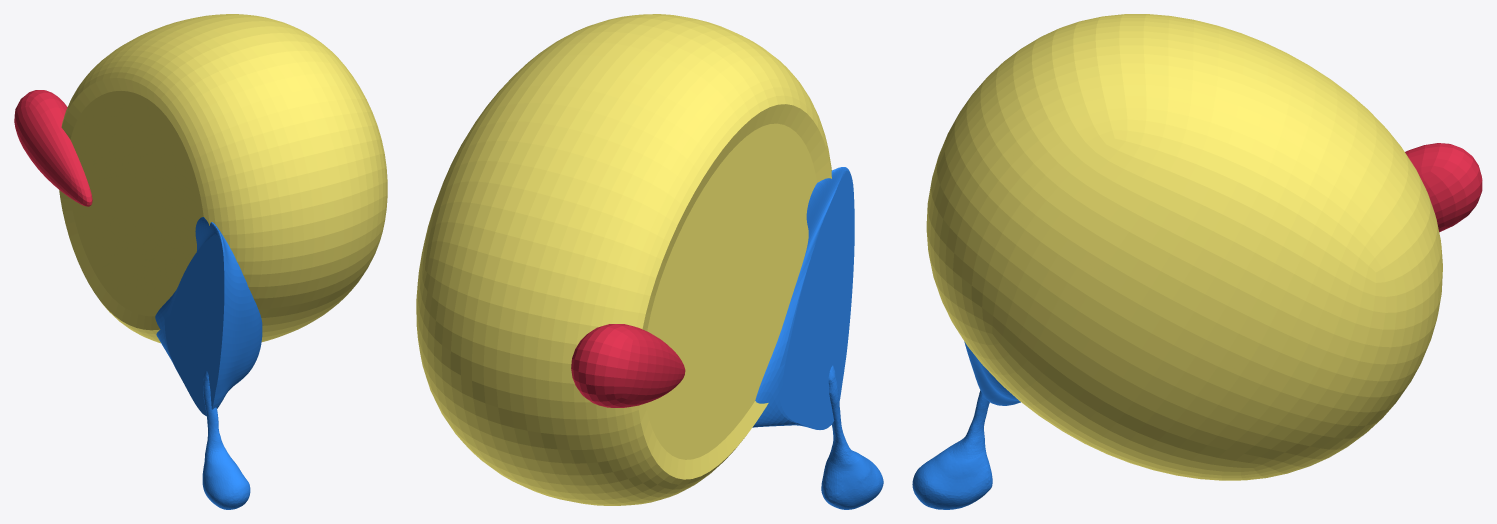
File: промежуточный_мозгталамус,_гипоталамус,_гипофиз,_эпифиз.fbx
3 views of the same model, side by side, from view 1: azimuth 30°, elevation 25°; view 2: azimuth 150°, elevation 25°; view 3: azimuth 270°, elevation 25° (orthographic). The views are drawn at different scales.
Parts seen in each view (by area): view 1: Cube.001, Cube.004, Cube.002, Cube.003; view 2: Cube.001, Cube.004, Cube.002, Cube.003; view 3: Cube.001, Cube.003, Cube.002, Cube.004.
Part boxes in pixels (x1,y1,x2,y2): Cube.001: (59, 14, 387, 343); Cube.004: (155, 217, 262, 415); Cube.002: (14, 90, 92, 206); Cube.003: (202, 371, 250, 509); Cube.001: (416, 14, 831, 505); Cube.004: (752, 167, 854, 429); Cube.002: (571, 324, 685, 407); Cube.003: (821, 365, 883, 509); Cube.001: (926, 14, 1442, 480); Cube.003: (912, 390, 992, 509); Cube.002: (1405, 143, 1482, 232); Cube.004: (964, 341, 1020, 405).
Size of the model in its own units: 347 by 568 by 558.
